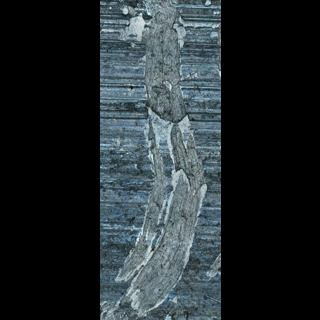d: (137, 139, 209, 268), (139, 58, 201, 160), (103, 243, 181, 317), (111, 0, 194, 58), (200, 0, 220, 40)
